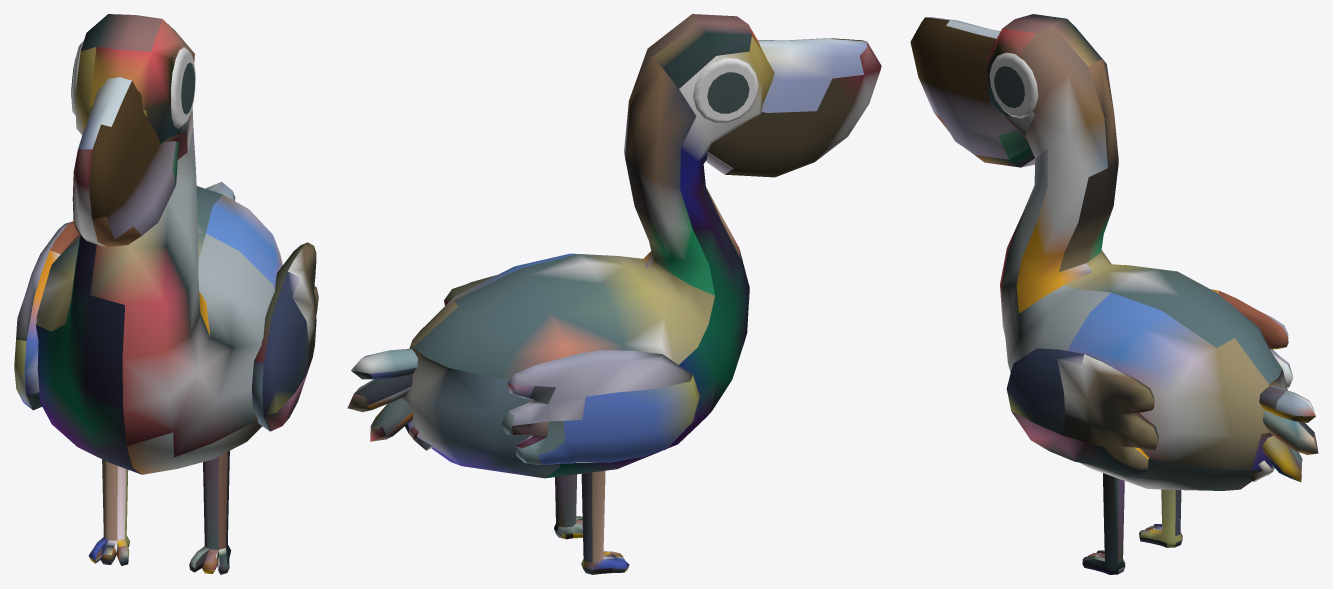
File: Pelican.glb
The picture shows the model from 3 angles, left to right: view 1: azimuth 30°, elevation 25°; view 2: azimuth 150°, elevation 25°; view 3: azimuth 270°, elevation 25°; orthographic projection. The views are drawn at different scales.
Visible parts, largest first — view 1: 120; view 2: 120; view 3: 120.
Boxes of the visible parts, x1=… form: 120: x1=14, y1=14, x2=318, y2=574; 120: x1=347, y1=14, x2=881, y2=574; 120: x1=910, y1=14, x2=1318, y2=574.
Bounding box in the file's own units: 0.6983 × 1.04 × 0.773.
